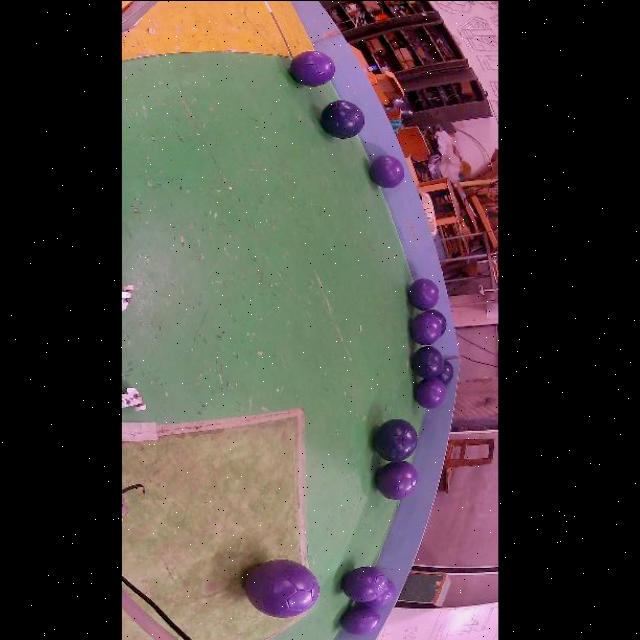B: (375, 418, 418, 461), (322, 99, 366, 138), (413, 345, 444, 377), (428, 308, 448, 335), (438, 359, 455, 384)
P: (246, 559, 320, 616), (376, 460, 420, 499), (342, 565, 388, 601), (291, 50, 336, 86), (354, 579, 397, 607), (370, 154, 405, 188), (342, 607, 382, 635), (412, 311, 443, 345), (409, 278, 440, 309), (416, 377, 447, 407)
